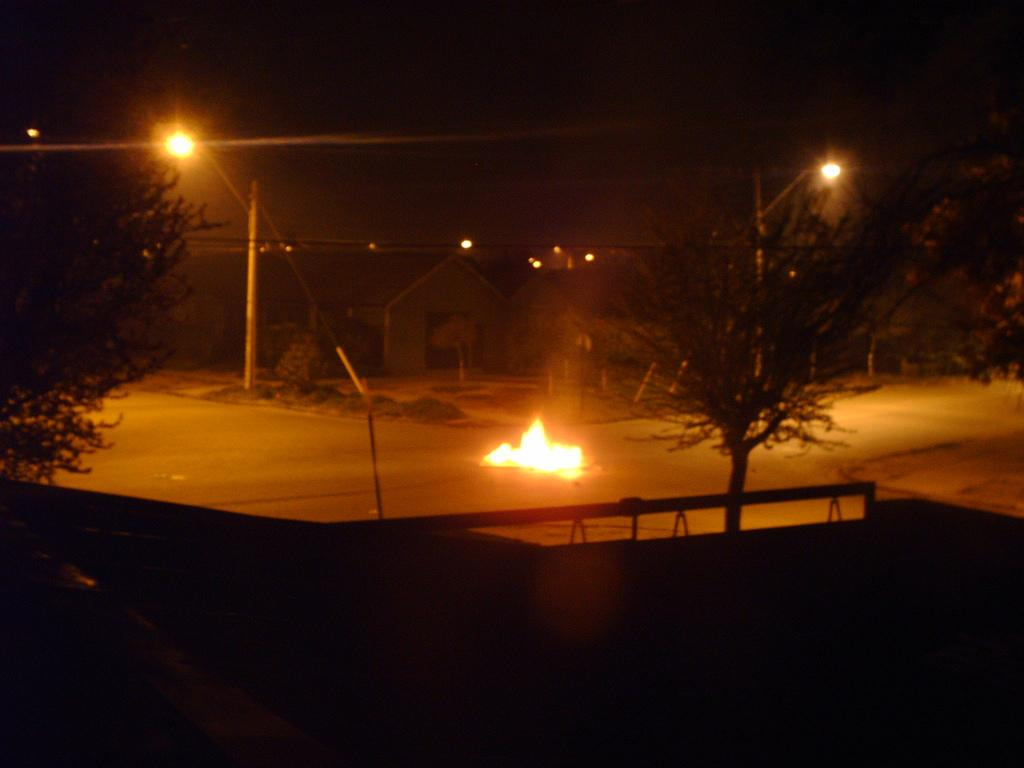fire: (506, 434, 568, 474)
